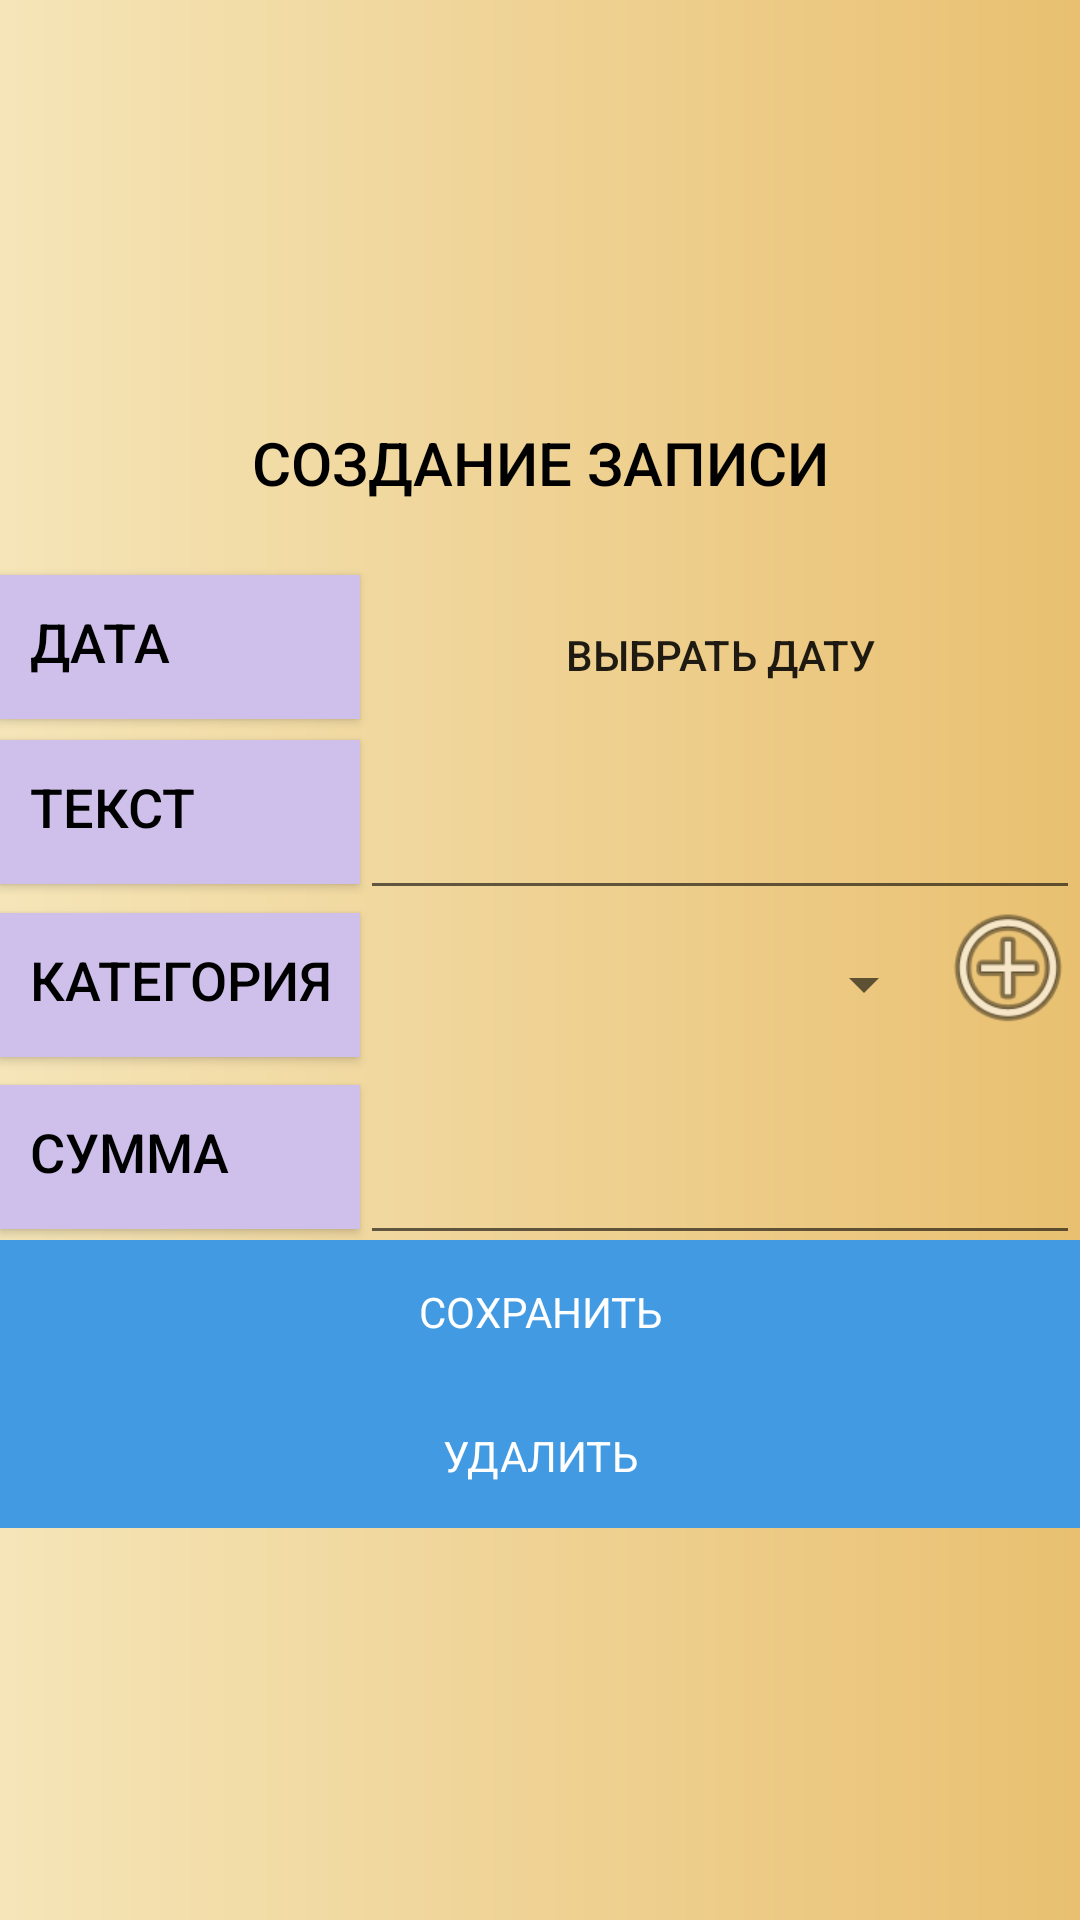

Icons on this 1080px x 1920px Android screen, each with its box as bbox=(x1, y1, x2, y2):
add: bbox=(954, 914, 1062, 1021)
